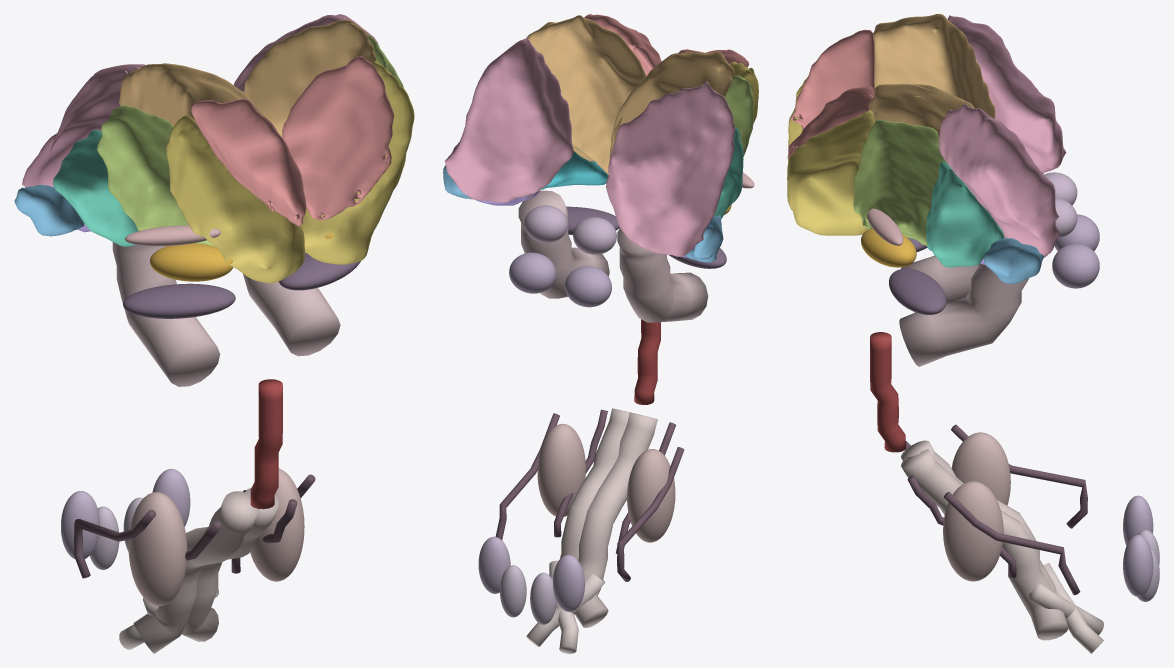
The model's file is deep_nuclei.glb.
3 views of the same model, side by side, from view 1: azimuth 30°, elevation 25°; view 2: azimuth 150°, elevation 25°; view 3: azimuth 270°, elevation 25° (orthographic). The views are drawn at different scales.
Parts seen in each view (by area): view 1: Thal_ATN_R, Thal_VA_L, Thal_ATN_L, Thal_VL_L, Thal_MD_R, Midbrain_Peduncle_L, Thal_VA_R, Medulla_Pyramid_L, Medulla_Olive_L, Thal_MD_L, Thal_VPL_L, Thal_Pulvinar_L (+15 smaller); view 2: Thal_Pulvinar_L, Thal_Pulvinar_R, Thal_MD_R, Medulla_Pyramid_L, Midbrain_Peduncle_L, Thal_MD_L, Medulla_Olive_R, Medulla_Olive_L, Midbrain_Peduncle_R, Medulla_Pyramid_R, Pons_BasilarGroove, Midbrain_IC_R (+20 smaller); view 3: Thal_Pulvinar_R, Thal_VL_R, Thal_MD_L, Thal_VA_R, Thal_Pulvinar_L, Midbrain_Peduncle_R, Thal_VPL_R, Medulla_Pyramid_R, Medulla_Olive_R, Thal_ATN_L, Thal_MD_R, Medulla_Olive_L (+19 smaller).
Boxes of the visible parts, box(x1,y1,x2,y2) form: Thal_ATN_R: box(282, 56, 394, 220); Thal_VA_L: box(166, 114, 305, 283); Thal_ATN_L: box(191, 99, 306, 226); Thal_VL_L: box(97, 105, 215, 253); Thal_MD_R: box(244, 19, 375, 137); Midbrain_Peduncle_L: box(112, 242, 220, 386); Thal_VA_R: box(301, 60, 414, 264); Medulla_Pyramid_L: box(133, 491, 259, 653); Medulla_Olive_L: box(128, 492, 187, 606); Thal_MD_L: box(119, 63, 269, 126); Thal_VPL_L: box(53, 130, 138, 246); Thal_Pulvinar_L: box(22, 64, 145, 187); Thal_Pulvinar_L: box(606, 82, 735, 256); Thal_Pulvinar_R: box(444, 38, 573, 202); Thal_MD_R: box(526, 15, 646, 174); Medulla_Pyramid_L: box(574, 412, 657, 627); Midbrain_Peduncle_L: box(617, 228, 708, 322); Thal_MD_L: box(609, 51, 734, 158); Medulla_Olive_R: box(537, 423, 585, 516); Medulla_Olive_L: box(627, 449, 675, 542); Midbrain_Peduncle_R: box(518, 190, 609, 298); Medulla_Pyramid_R: box(560, 408, 634, 560); Pons_BasilarGroove: box(634, 319, 660, 404); Midbrain_IC_R: box(509, 252, 556, 293); Thal_Pulvinar_R: box(939, 104, 1059, 257); Thal_VL_R: box(853, 119, 946, 245); Thal_MD_L: box(873, 14, 995, 118); Thal_VA_R: box(787, 110, 874, 235); Thal_Pulvinar_L: box(947, 15, 1066, 172); Midbrain_Peduncle_R: box(899, 263, 1028, 366); Thal_VPL_R: box(926, 161, 1004, 267); Medulla_Pyramid_R: box(901, 449, 1068, 640); Medulla_Olive_R: box(943, 481, 1003, 581); Thal_ATN_L: box(790, 29, 874, 130); Thal_MD_R: box(869, 84, 974, 164); Medulla_Olive_L: box(951, 432, 1010, 505).
Bounding box in the file's own units: 1.12 × 2.17 × 1.24.
